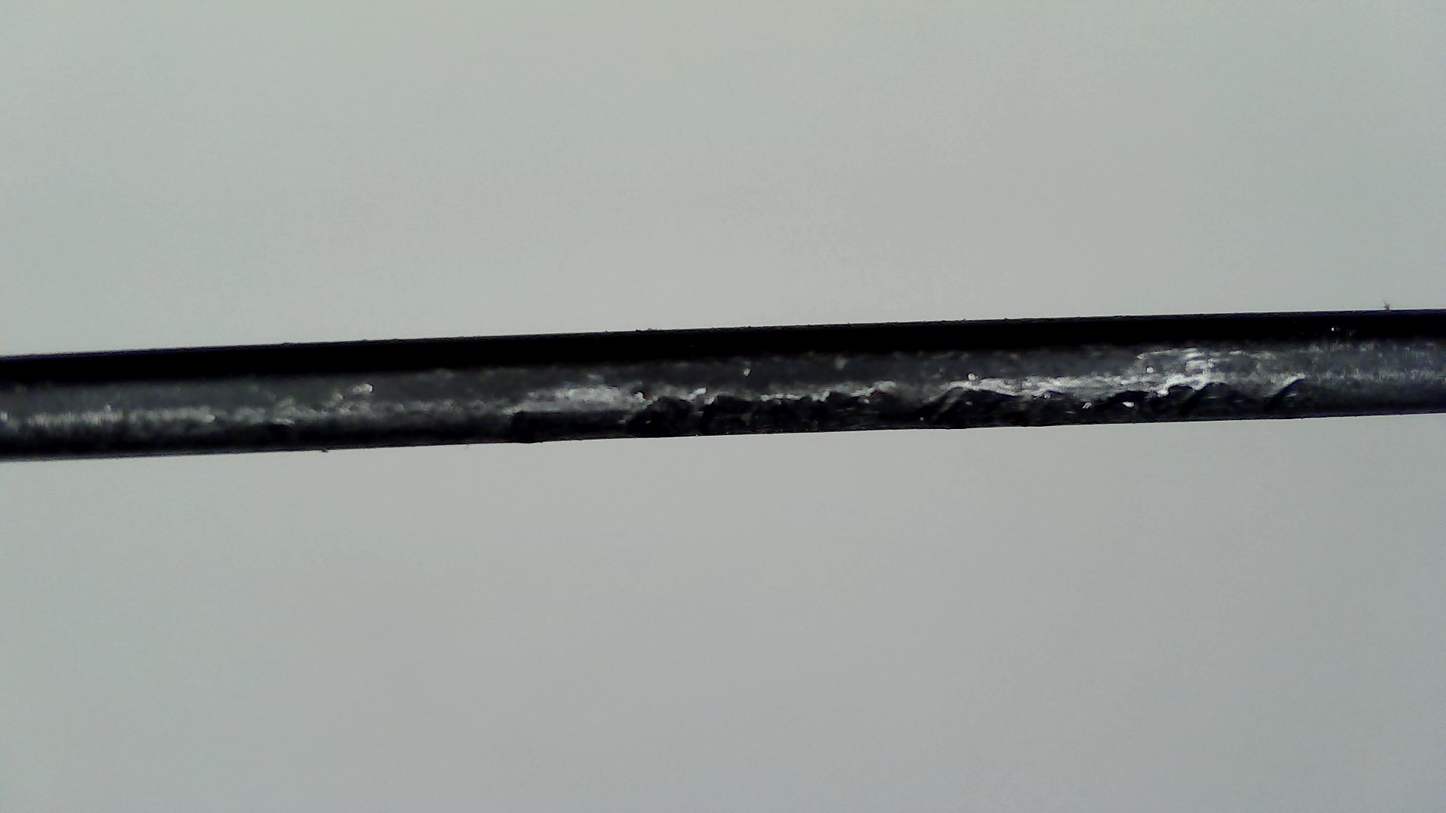defect: (620, 362, 1323, 436)
